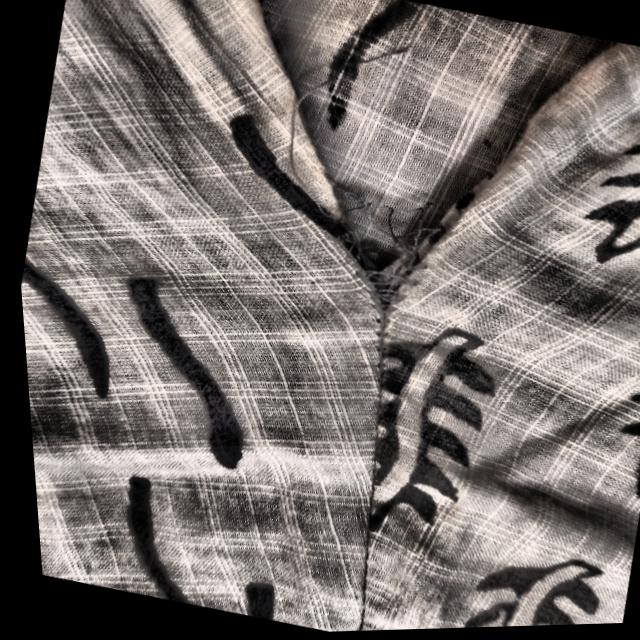Stitch: (204, 5, 516, 379)
